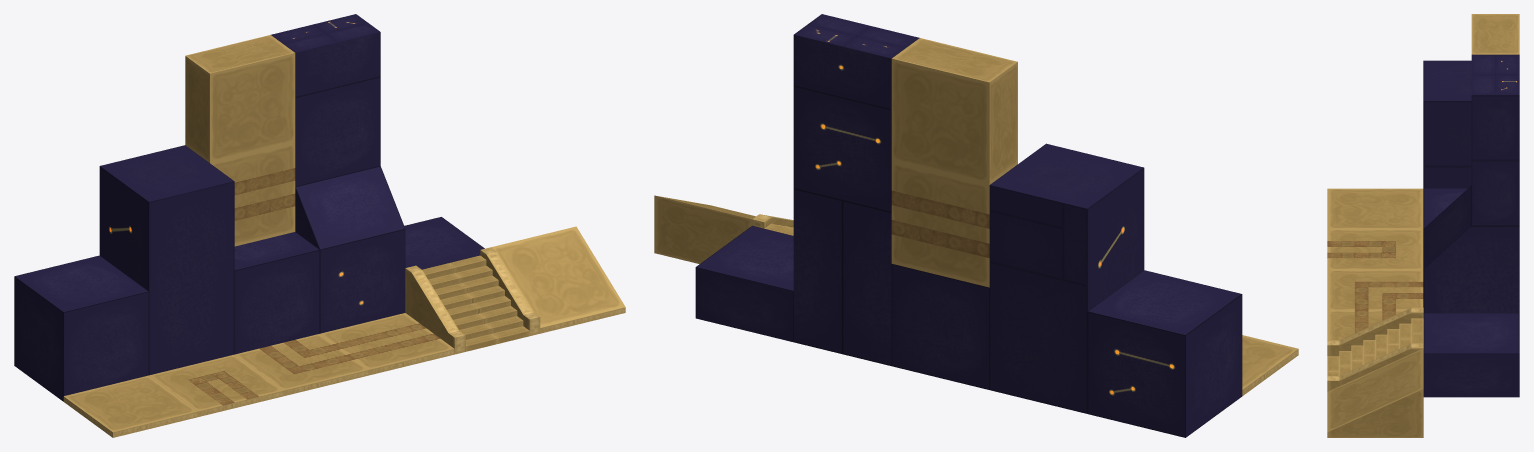
Rendered from environment.gltf.
The picture shows the model from 3 angles, left to right: view 1: azimuth 30°, elevation 25°; view 2: azimuth 150°, elevation 25°; view 3: azimuth 270°, elevation 25°; orthographic projection. The views are drawn at different scales.
Visible parts, largest first — view 1: wall.006, wall.003, wall.001, wall.000, floor.006, floor.007, floor.000, floor.003, floor.001, floor.002, wall.007; view 2: wall.003, wall.006, wall.001, wall.000, wall.007, floor.007, floor.000; view 3: wall.006, wall.007, floor.007, wall.001, floor.006, floor.000, floor.001, floor.002, wall.003, floor.003.
Boxes of the visible parts, x1=… form: wall.006: x1=271, y1=14, x2=405, y2=333; wall.003: x1=185, y1=35, x2=319, y2=354; wall.001: x1=99, y1=145, x2=234, y2=375; wall.000: x1=14, y1=255, x2=148, y2=401; floor.006: x1=405, y1=247, x2=540, y2=354; floor.007: x1=491, y1=226, x2=625, y2=333; floor.000: x1=63, y1=375, x2=198, y2=437; floor.003: x1=320, y1=313, x2=454, y2=375; floor.001: x1=149, y1=354, x2=283, y2=416; floor.002: x1=235, y1=334, x2=369, y2=395; wall.007: x1=404, y1=217, x2=484, y2=269; wall.003: x1=891, y1=38, x2=1017, y2=389; wall.006: x1=793, y1=14, x2=919, y2=365; wall.001: x1=989, y1=143, x2=1144, y2=413; wall.000: x1=1087, y1=270, x2=1242, y2=437; wall.007: x1=695, y1=225, x2=793, y2=342; floor.007: x1=654, y1=195, x2=755, y2=263; floor.000: x1=1242, y1=335, x2=1298, y2=395; wall.006: x1=1423, y1=54, x2=1519, y2=312; wall.007: x1=1423, y1=313, x2=1519, y2=397; floor.007: x1=1327, y1=348, x2=1423, y2=437; wall.001: x1=1423, y1=60, x2=1471, y2=188; floor.006: x1=1327, y1=307, x2=1423, y2=391; floor.000: x1=1327, y1=188, x2=1423, y2=229; floor.001: x1=1327, y1=229, x2=1423, y2=269; floor.002: x1=1327, y1=270, x2=1423, y2=310; wall.003: x1=1423, y1=14, x2=1519, y2=228; floor.003: x1=1327, y1=310, x2=1404, y2=340.
Size of the model in its own units: 48 by 24 by 16.
3 materials, 3 textured.
